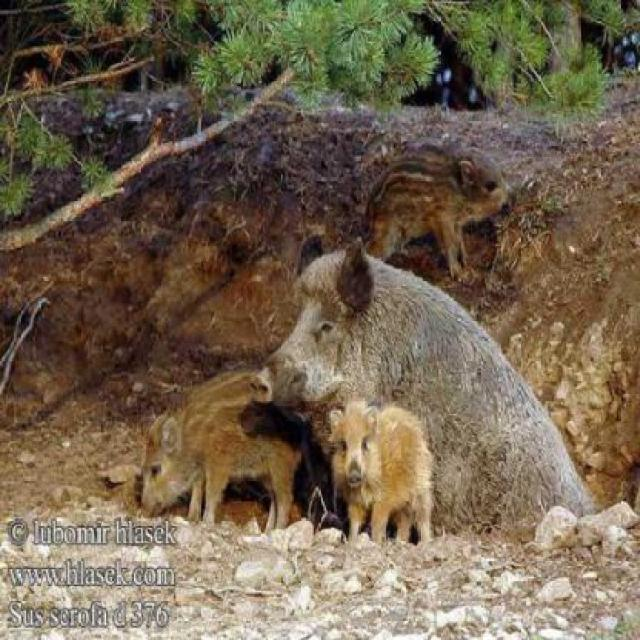Boar: (264, 142, 604, 586), (304, 374, 458, 578)
